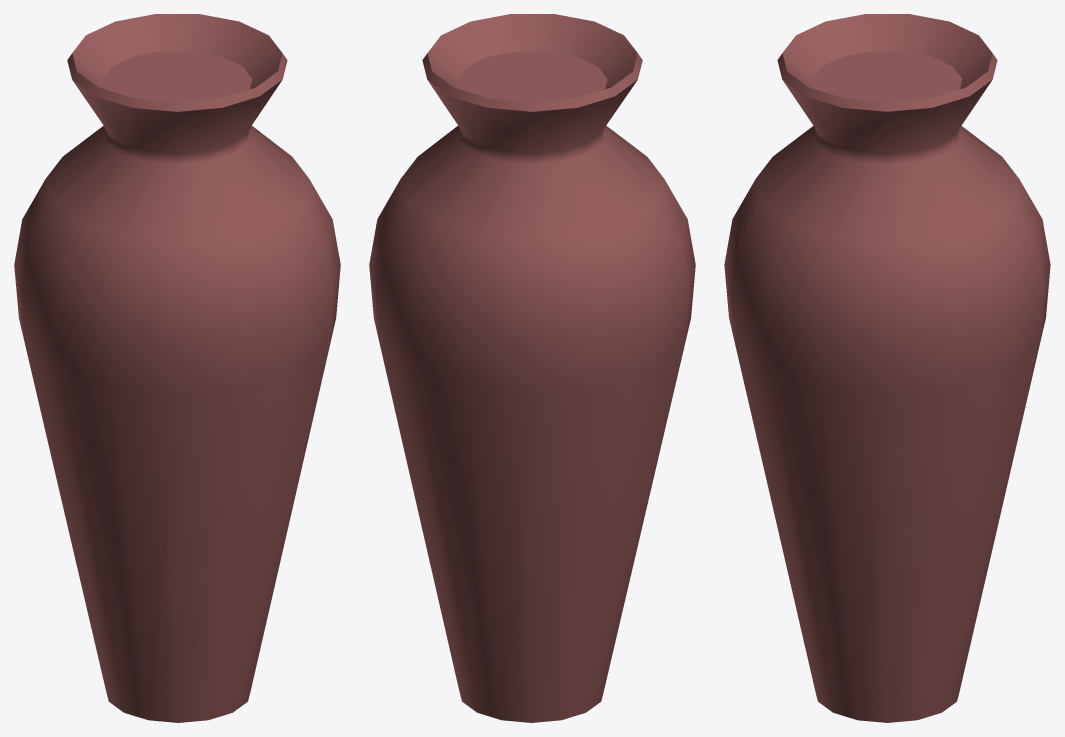
Rendered from vase_C.FBX.
The picture shows the model from 3 angles, left to right: view 1: azimuth 30°, elevation 25°; view 2: azimuth 150°, elevation 25°; view 3: azimuth 270°, elevation 25°; orthographic projection.
Parts seen in each view (by area): view 1: vase_C; view 2: vase_C; view 3: vase_C.
Boxes of the visible parts, left/top/right/bottom form: vase_C: left=14, top=14, right=340, bottom=722; vase_C: left=369, top=14, right=695, bottom=722; vase_C: left=724, top=14, right=1050, bottom=722.
Size of the model in its own units: 1.13 by 2.44 by 1.14.
